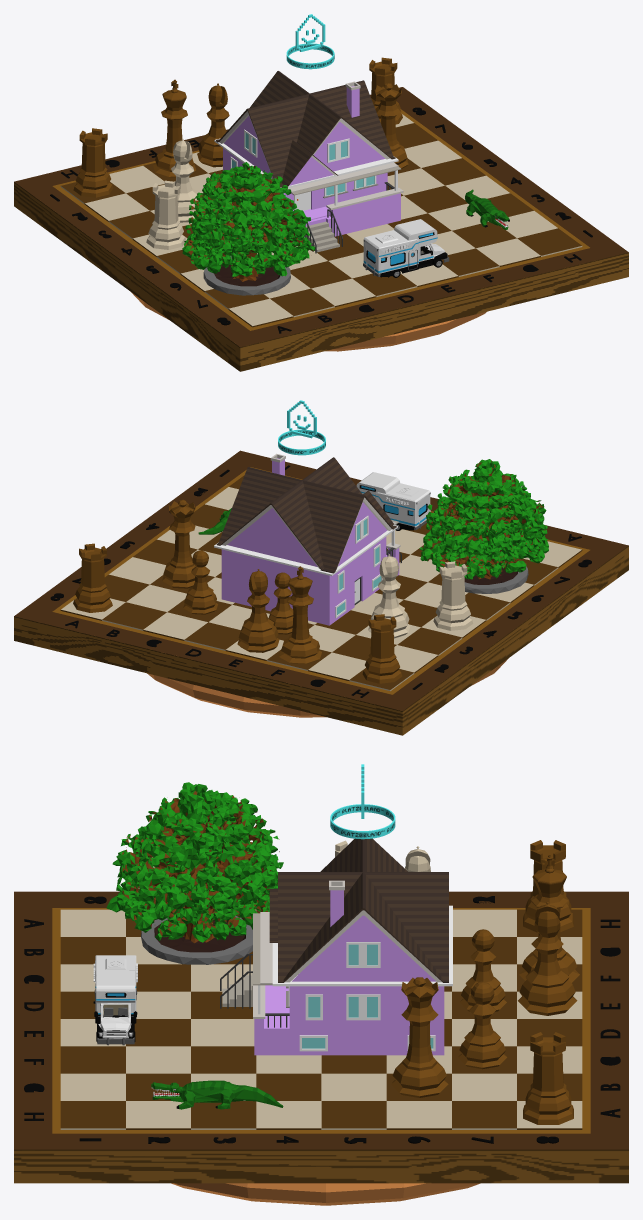
3 views of the same model, one above another, from view 1: azimuth 30°, elevation 25°; view 2: azimuth 150°, elevation 25°; view 3: azimuth 270°, elevation 25° (orthographic). The views are drawn at different scales.
Visible parts, largest first — view 1: Cube.002, Cube.391, OBJRANDOM_CEIBA, VEHICLES_CAMPER, UNDERGROUND_PIZZA, TYPE_PREMIUM, ANIMAL_COCODRILO; view 2: Cube.002, Cube.391, OBJRANDOM_CEIBA, VEHICLES_CAMPER, UNDERGROUND_PIZZA, TYPE_PREMIUM; view 3: Cube.002, Cube.391, OBJRANDOM_CEIBA, UNDERGROUND_PIZZA, VEHICLES_CAMPER, ANIMAL_COCODRILO, TYPE_PREMIUM.
Boxes of the visible parts, <box> form: Cube.002: <box>14,57,628,371</box>; Cube.391: <box>214,71,403,253</box>; OBJRANDOM_CEIBA: <box>182,162,315,295</box>; VEHICLES_CAMPER: <box>363,219,449,277</box>; UNDERGROUND_PIZZA: <box>131,292,486,351</box>; TYPE_PREMIUM: <box>286,14,334,69</box>; ANIMAL_COCODRILO: <box>465,189,509,229</box>; Cube.002: <box>14,450,628,735</box>; Cube.391: <box>214,453,401,625</box>; OBJRANDOM_CEIBA: <box>419,459,548,593</box>; VEHICLES_CAMPER: <box>356,472,430,530</box>; UNDERGROUND_PIZZA: <box>147,658,508,717</box>; TYPE_PREMIUM: <box>278,400,325,455</box>; Cube.002: <box>14,840,628,1183</box>; Cube.391: <box>220,838,452,1055</box>; OBJRANDOM_CEIBA: <box>106,782,283,964</box>; UNDERGROUND_PIZZA: <box>171,1183,480,1205</box>; VEHICLES_CAMPER: <box>93,955,137,1045</box>; ANIMAL_COCODRILO: <box>151,1080,283,1109</box>; TYPE_PREMIUM: <box>330,764,395,839</box>.
Bounding box in the file's own units: 3981 × 2389 × 4012.
44 materials, 3 textured.
